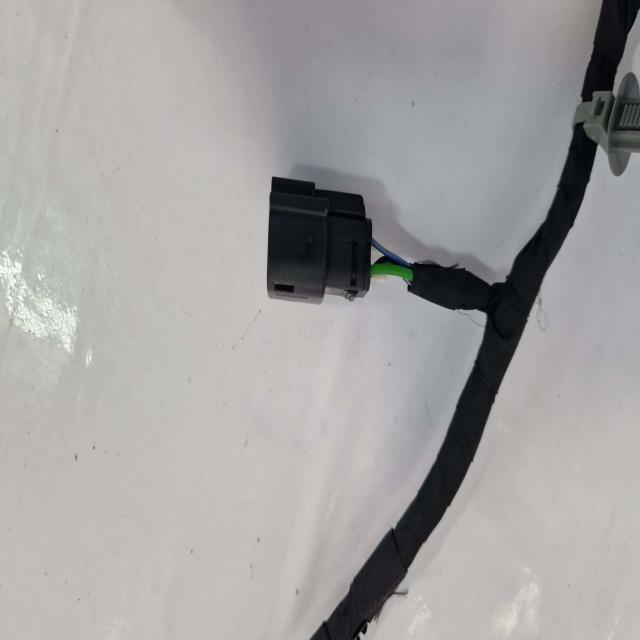Clip: (572, 73, 640, 176)
Connector: (266, 176, 374, 303)
Gape: (374, 226, 418, 302)
MHEV_N11_Cable: (316, 129, 597, 631), (586, 0, 626, 116)
